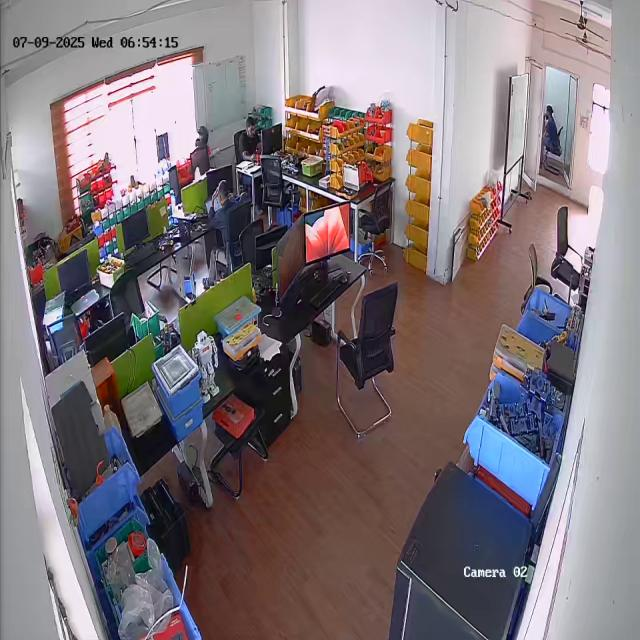person: (202, 179, 255, 277), (233, 116, 270, 182), (544, 104, 562, 156)
